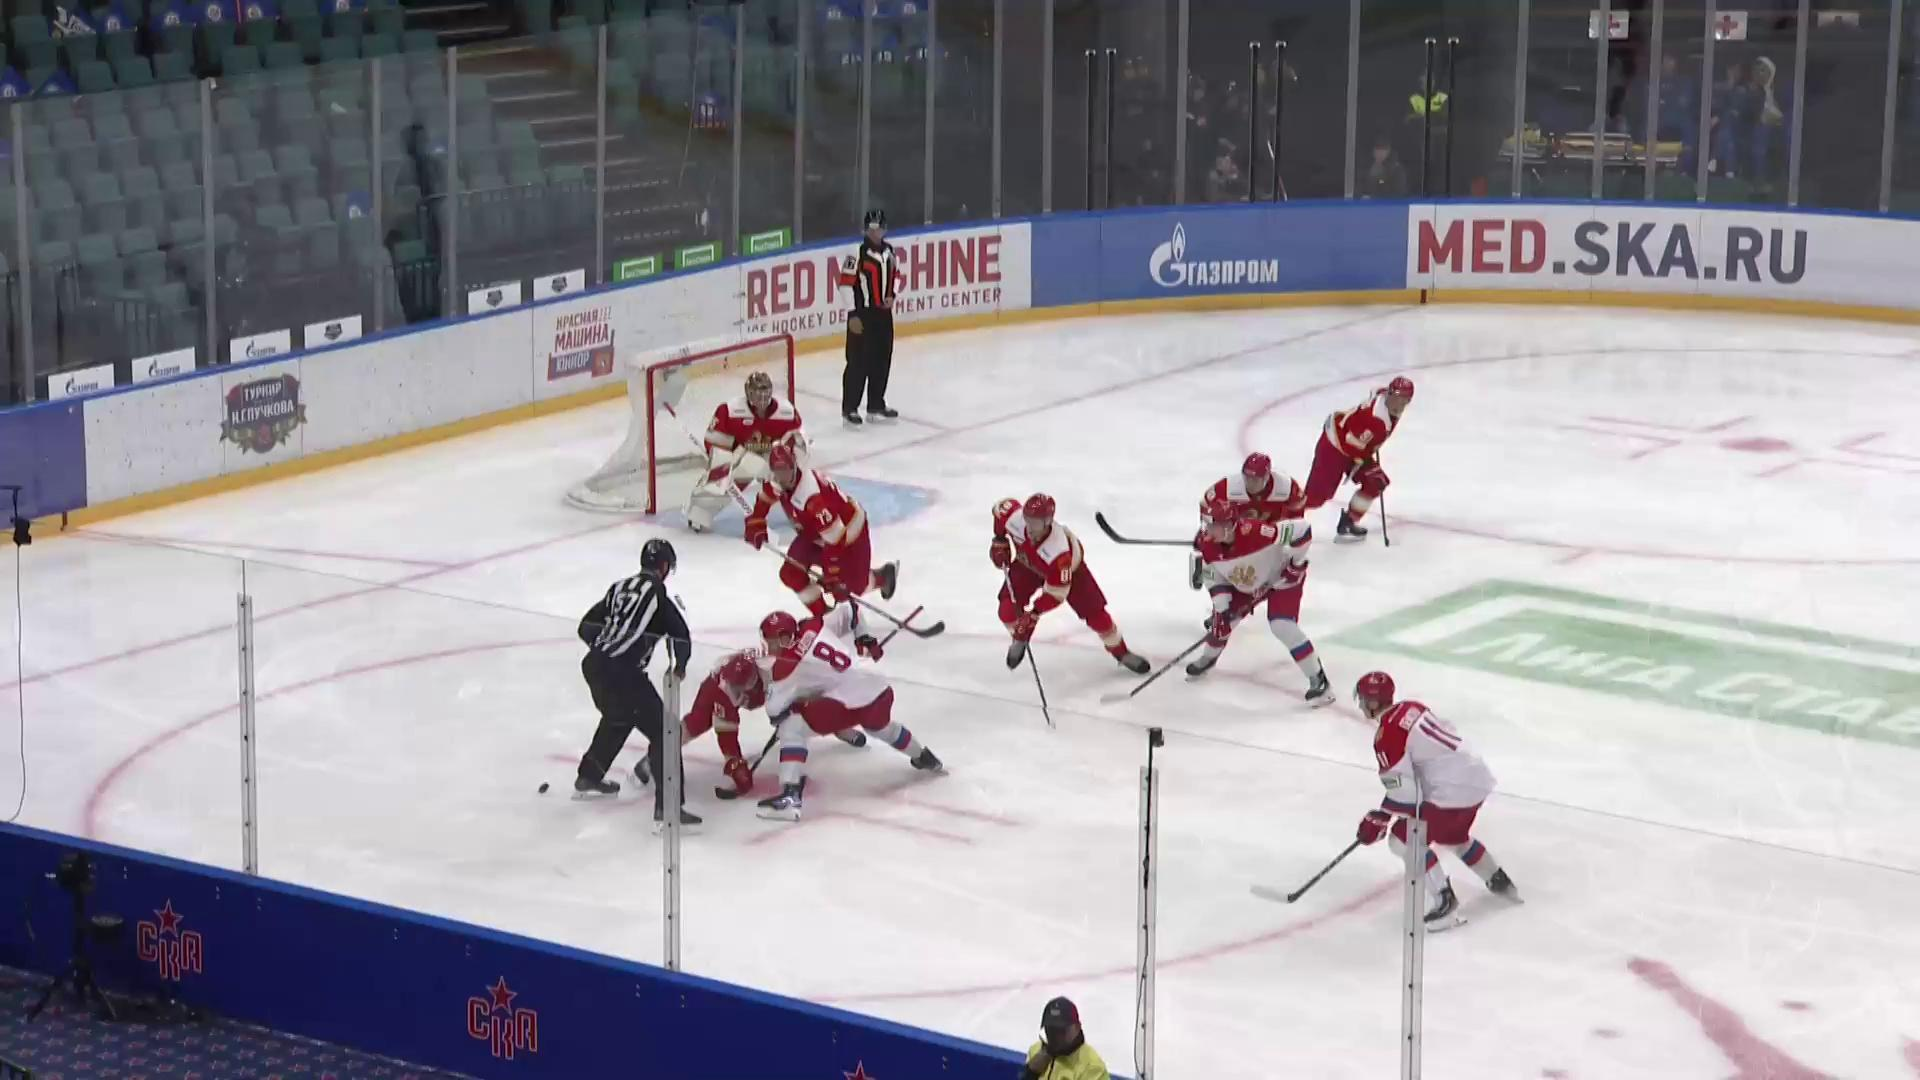ball: (535, 779, 553, 796)
